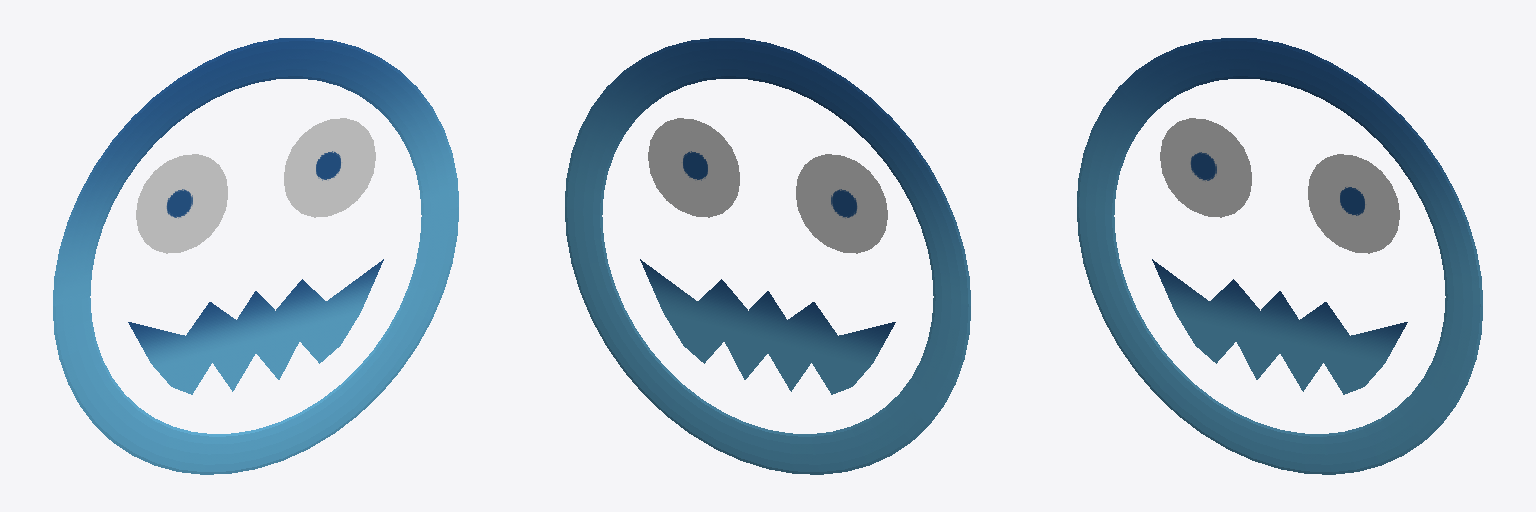
The picture shows the model from 3 angles: view 1: azimuth 30°, elevation 25°; view 2: azimuth 150°, elevation 25°; view 3: azimuth 330°, elevation 25°; orthographic projection.
Visible parts, largest first — view 1: トーラス; view 2: トーラス; view 3: トーラス.
Part boxes in pixels (left/top/right/bottom): トーラス: left=53, top=38, right=458, bottom=474; トーラス: left=565, top=38, right=970, bottom=474; トーラス: left=1077, top=38, right=1482, bottom=474.
Size of the model in its own units: 4.41 by 4.42 by 0.0206.
Materials: 1 (1 with a texture image).